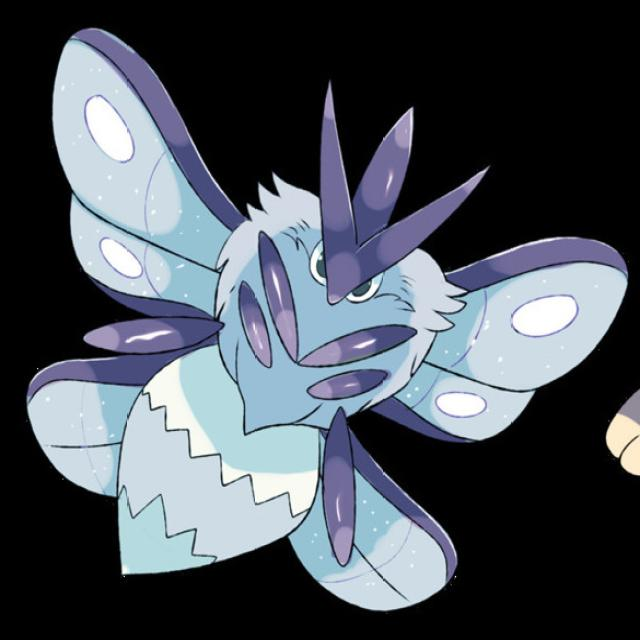Venomoth: (77, 76, 527, 614)
